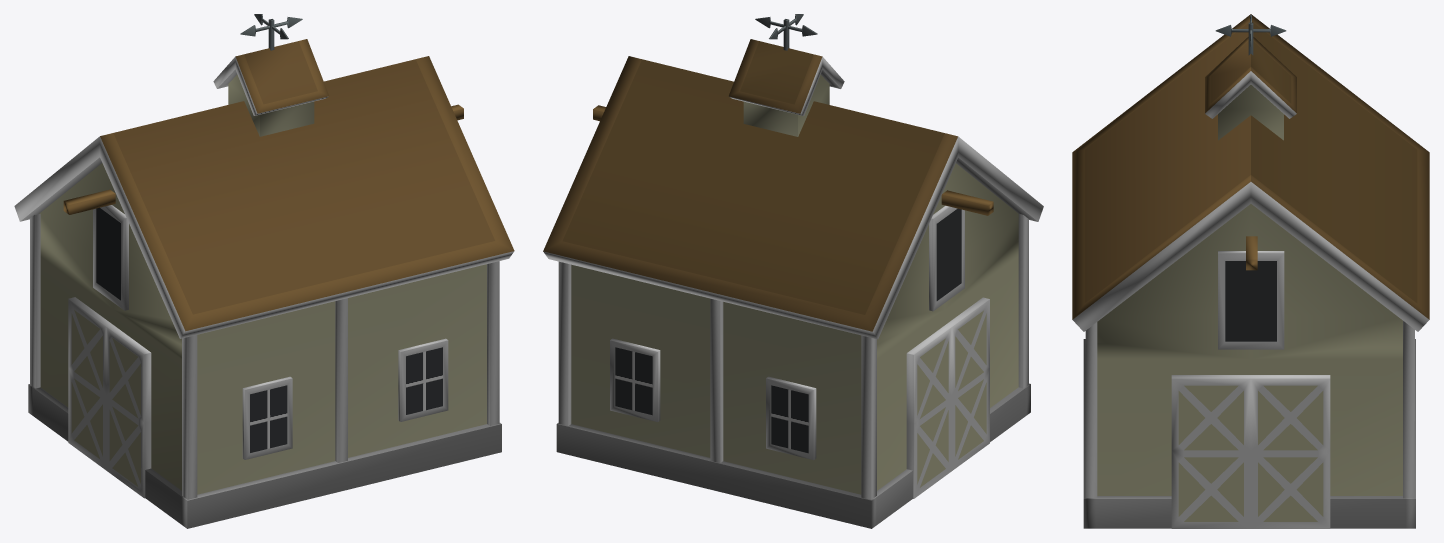
File: Barn.glb
3 renders of one model, left to right at view 1: azimuth 30°, elevation 25°; view 2: azimuth 150°, elevation 25°; view 3: azimuth 270°, elevation 25°, orthographic. The views are drawn at different scales.
Visible parts, largest first — view 1: Barn; view 2: Barn; view 3: Barn.
Boxes of the visible parts, left/top/right/bottom form: Barn: left=14, top=14, right=514, bottom=528; Barn: left=543, top=14, right=1043, bottom=528; Barn: left=1072, top=14, right=1429, bottom=528.
Size of the model in its own units: 16.08 by 15.98 by 12.08.
1 material, 1 textured.
